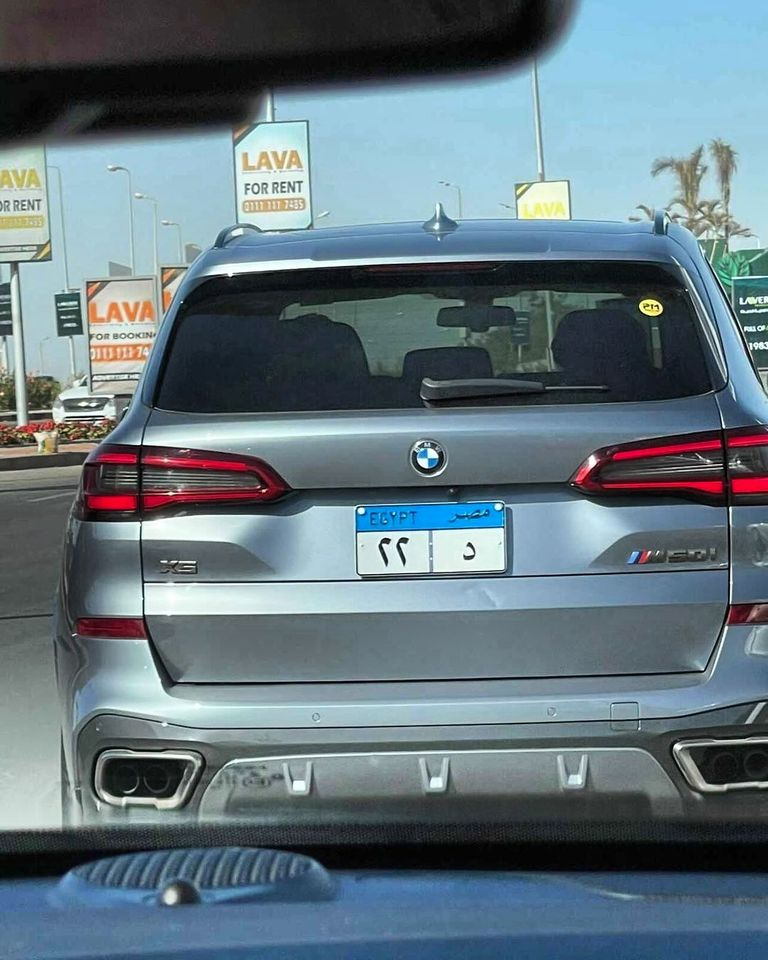carpl: (353, 514, 507, 577)
